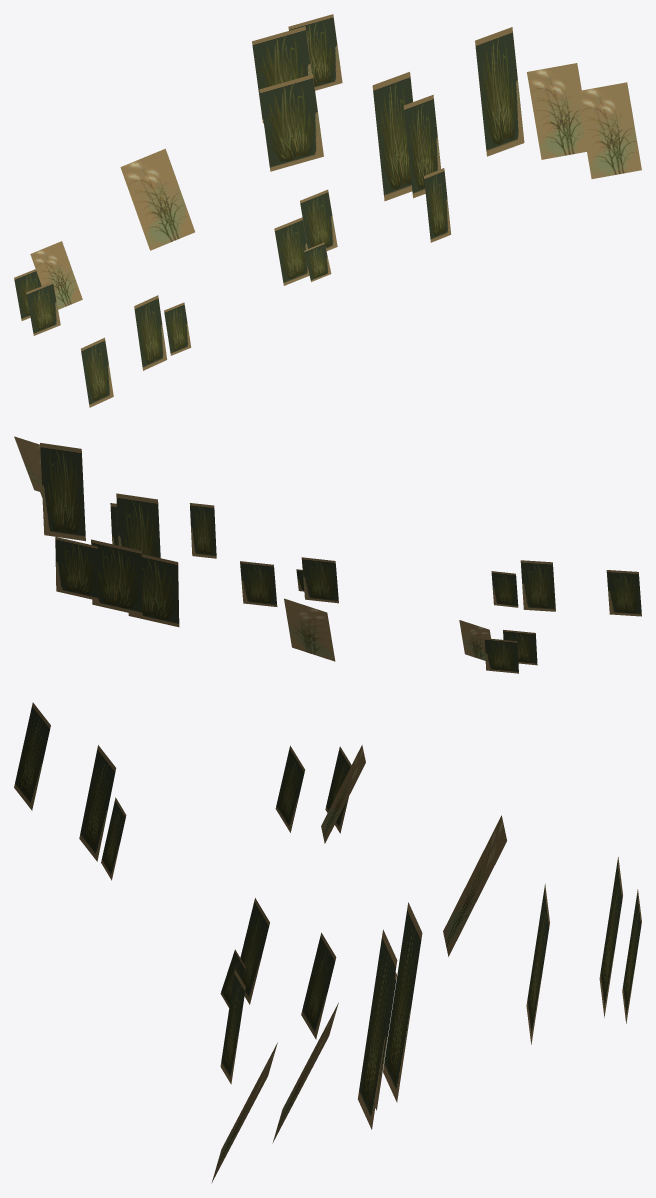
Rendered from object_grass_polys12.fbx.
3 views of the same model, one above another, from view 1: azimuth 30°, elevation 25°; view 2: azimuth 150°, elevation 25°; view 3: azimuth 270°, elevation 25° (orthographic). The views are drawn at different scales.
Visible parts, largest first — view 1: obj0.068; view 2: obj0.068; view 3: obj0.068.
Boxes of the visible parts, box(x1,y1,x2,y2) form: obj0.068: box(14, 14, 641, 407); obj0.068: box(14, 436, 641, 673); obj0.068: box(14, 702, 641, 1183).
Size of the model in its own units: 20.23 by 4.79 by 11.67.
